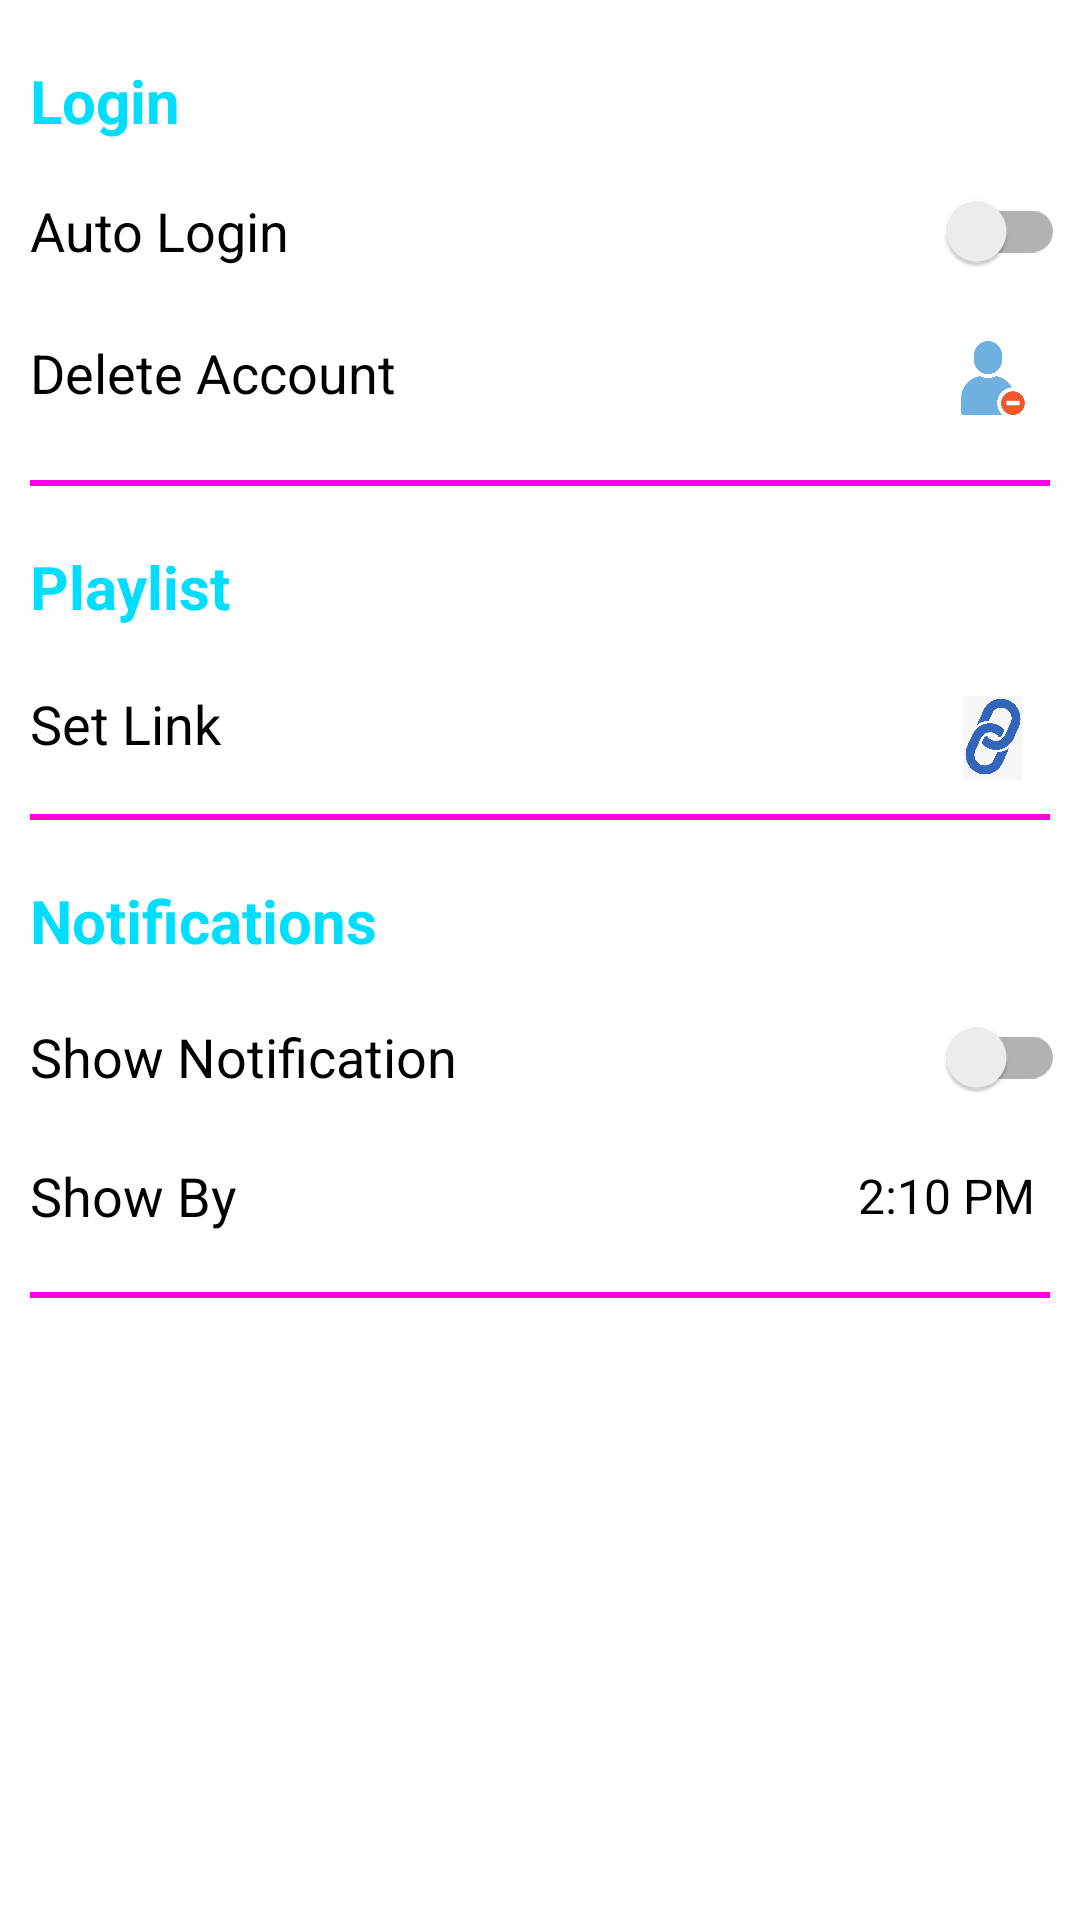

Locate icon controls on the screen. Image size 1080×1920, boxes as (x1, y1, x2, y2).
delete account: (961, 341, 1025, 415)
set link: (965, 699, 1021, 774)
